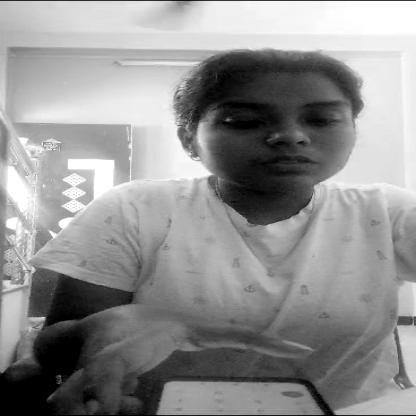Normal: (154, 56, 382, 188)
